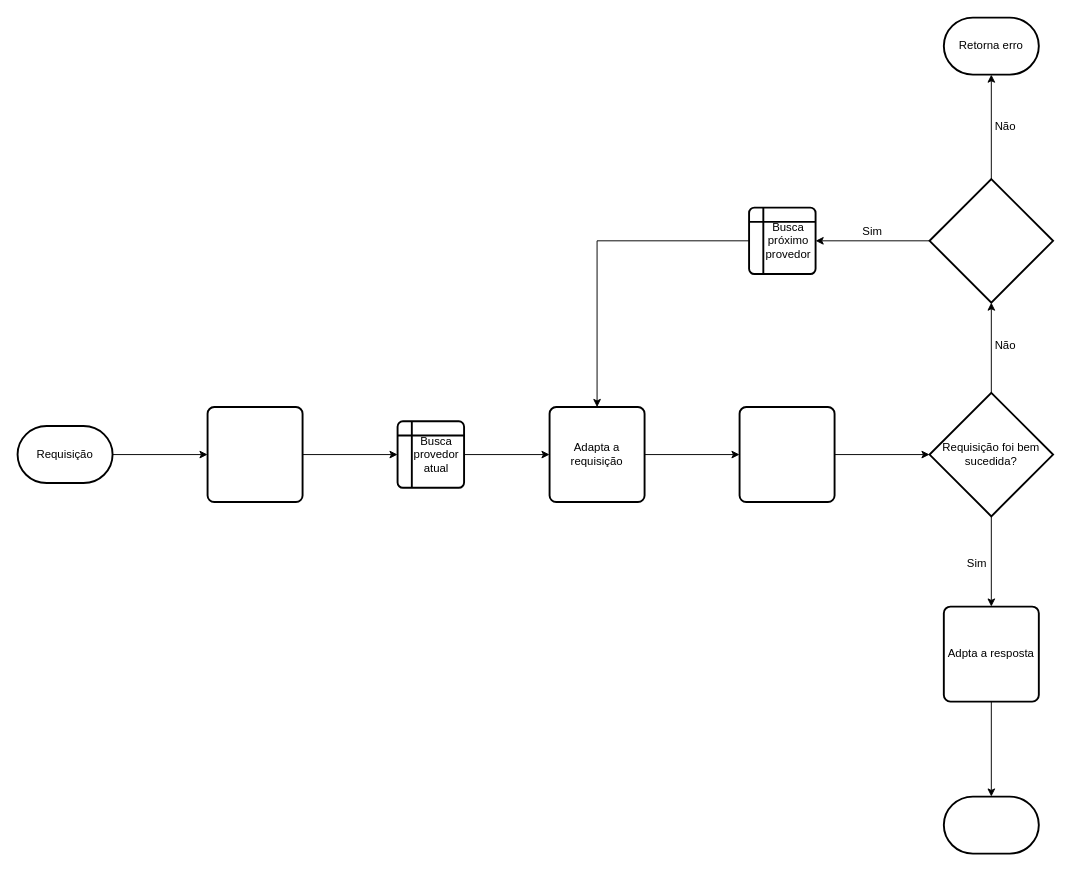
This 1070x870 diagram has some shape labels left out. The centre of each missing label's shape, as x and y in pixels:
"Decide tipo do provedor" belongs at (x=254, y=454).
"Há mais algum provedor disponível?" belongs at (x=991, y=240).
"Realiza a requisição" belongs at (x=786, y=454).
"Retorna a resposta" belongs at (x=990, y=824).
